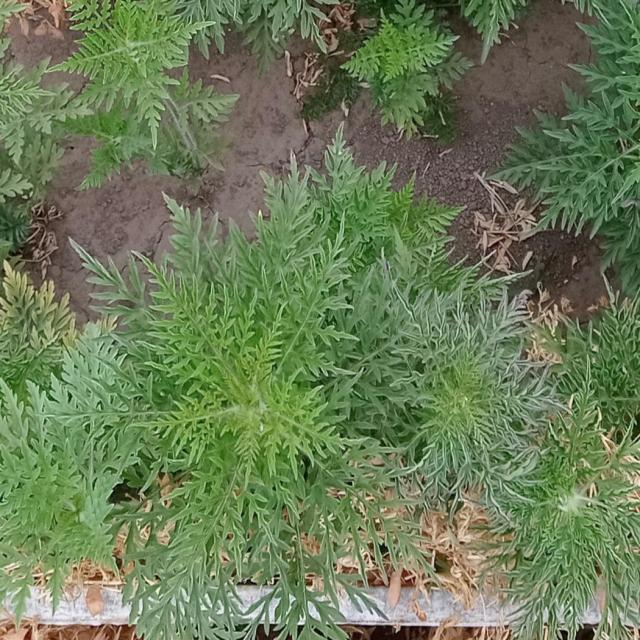AMBEL: (73, 163, 457, 627), (372, 247, 540, 522), (49, 0, 246, 191), (0, 326, 124, 604), (514, 368, 640, 634), (276, 145, 468, 273), (548, 0, 639, 268), (0, 0, 87, 261), (356, 0, 486, 130), (414, 0, 639, 63)
